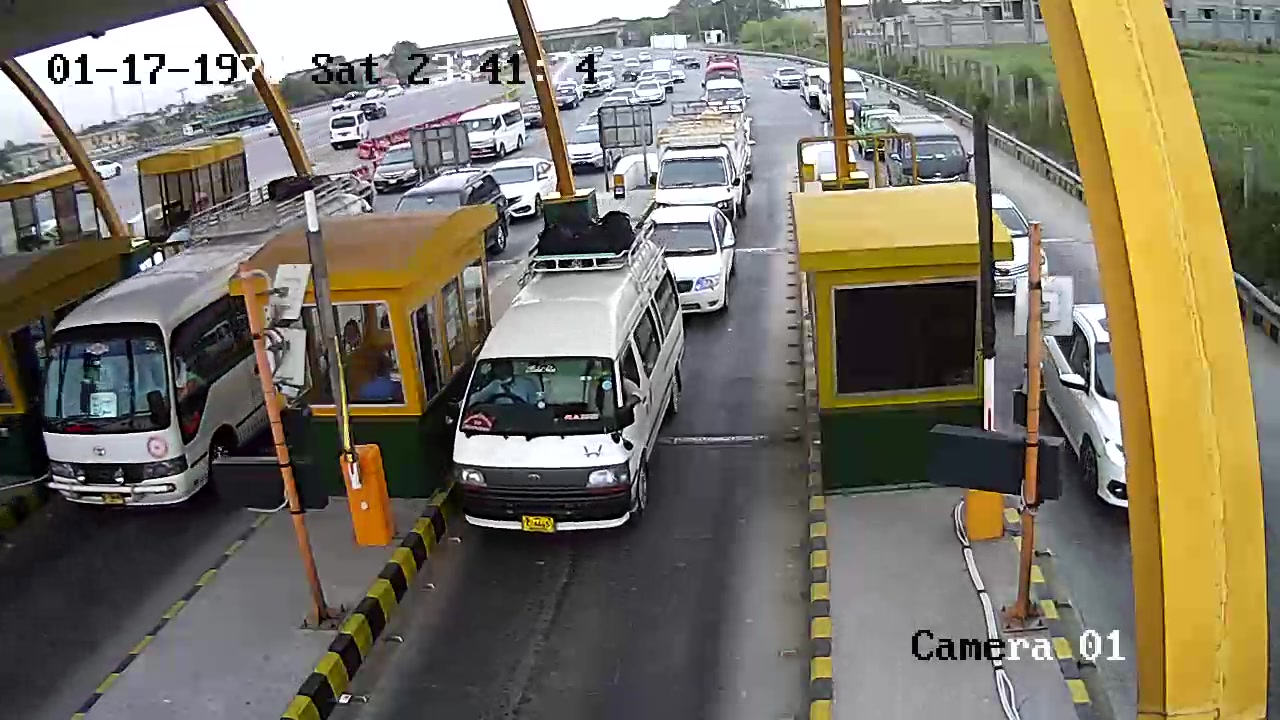F2: (447, 211, 688, 552)
